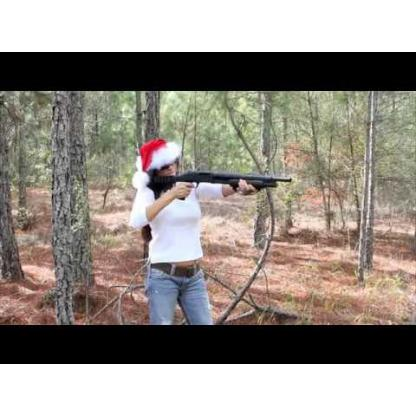gun: (146, 166, 290, 200)
